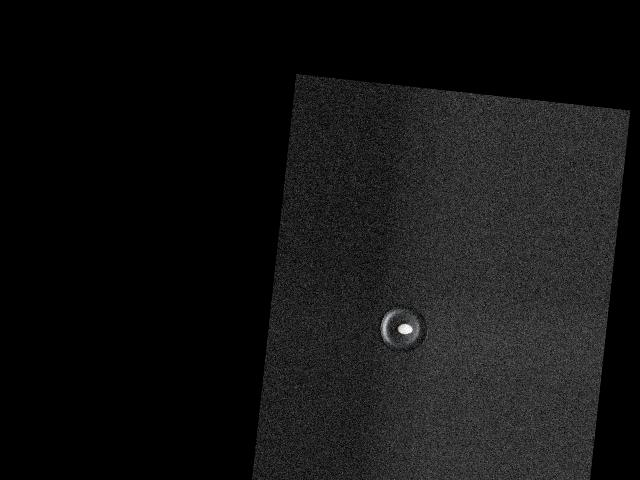egg: (396, 323, 412, 335)
